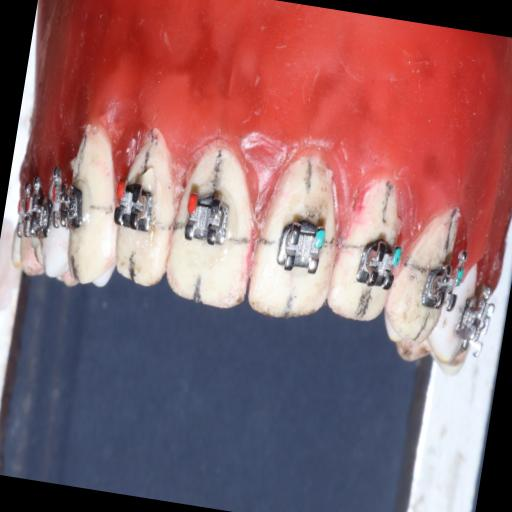correct_brace: (273, 213, 330, 279)
incorrect_brace: (179, 186, 236, 252)
